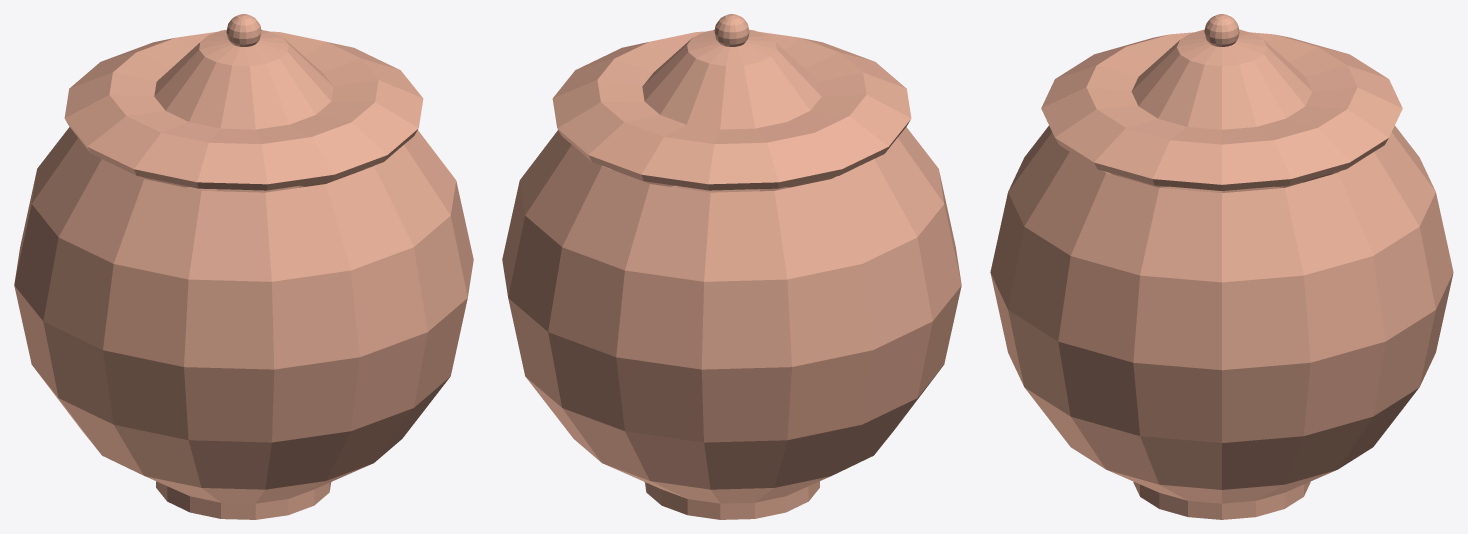
File: pot.fbx
3 renders of one model, left to right at view 1: azimuth 30°, elevation 25°; view 2: azimuth 150°, elevation 25°; view 3: azimuth 270°, elevation 25°, orthographic.
Visible parts, largest first — view 1: Sphere, Sphere.001; view 2: Sphere, Sphere.001; view 3: Sphere, Sphere.001.
Part boxes in pixels (x1=…): Sphere: x1=14, y1=127, x2=473, y2=519; Sphere.001: x1=64, y1=14, x2=423, y2=190; Sphere: x1=502, y1=127, x2=961, y2=519; Sphere.001: x1=552, y1=14, x2=911, y2=190; Sphere: x1=990, y1=125, x2=1453, y2=519; Sphere.001: x1=1041, y1=14, x2=1402, y2=190.
Bounding box in the file's own units: 4 × 4.45 × 4.
